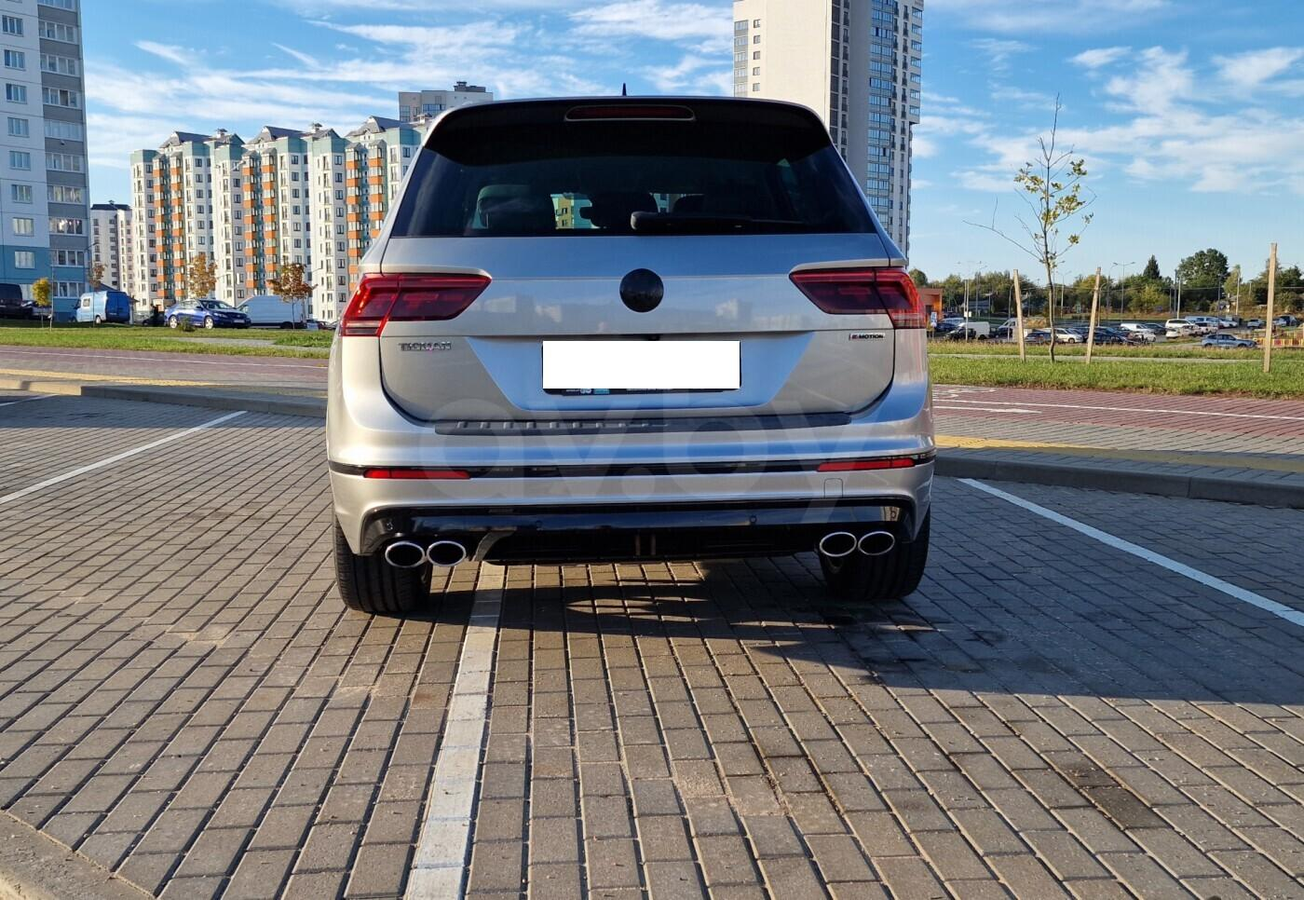Tiguan_2016-2021: (323, 87, 940, 616)
